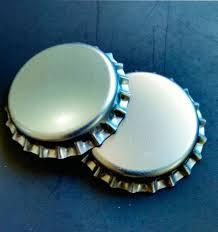Metal: (76, 66, 212, 202), (4, 36, 136, 154)
